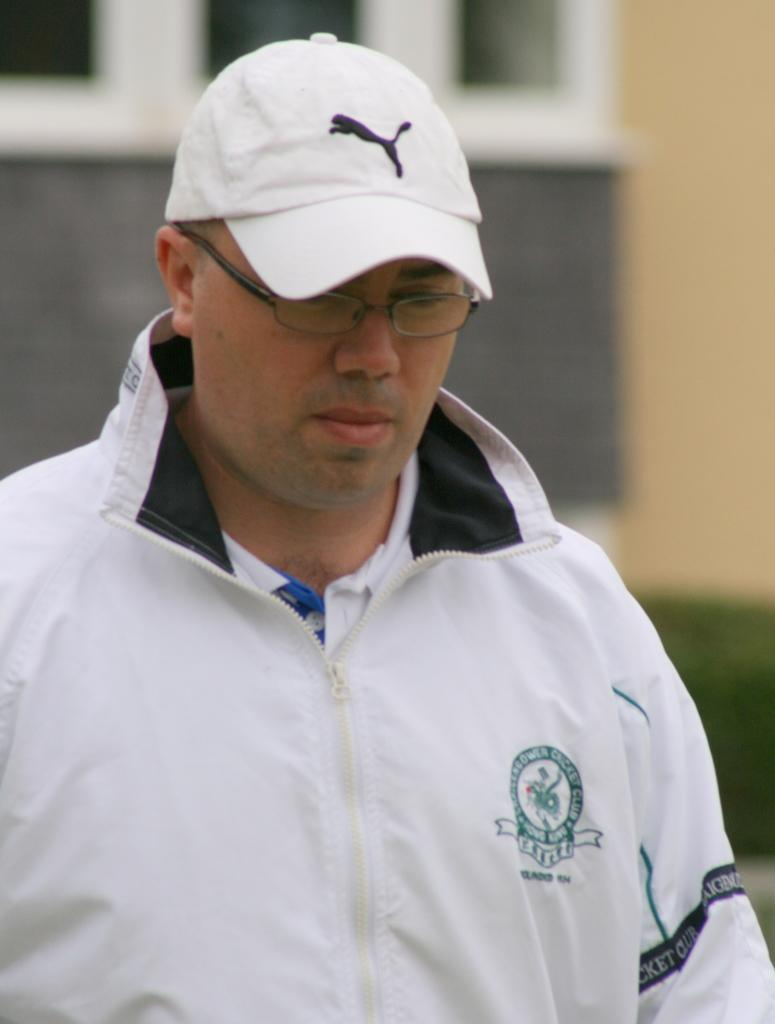Hat: (165, 30, 495, 299)
